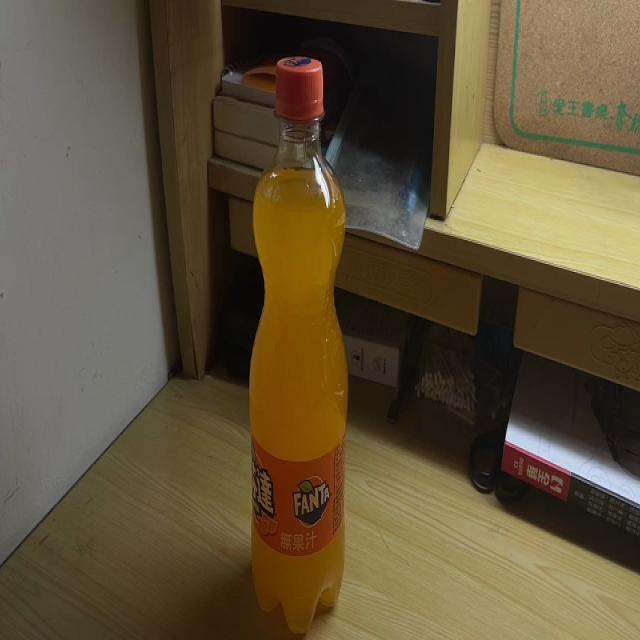Fanta: (250, 57, 350, 632)
